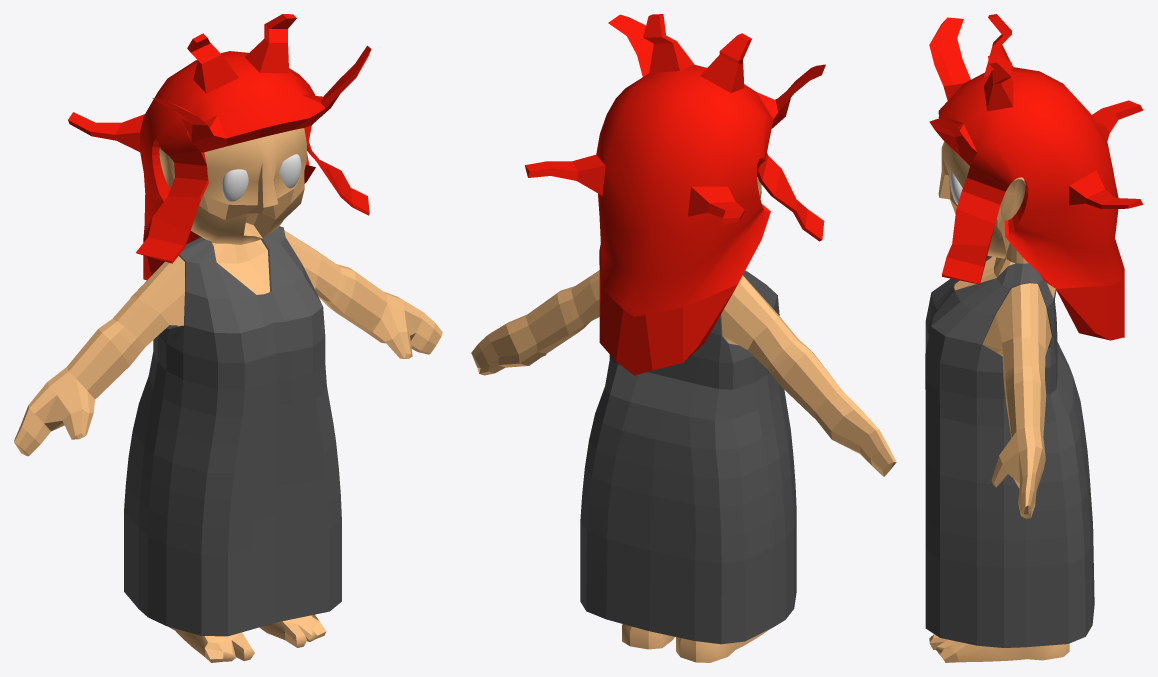
Rendered from normal.fbx.
3 views of the same model, side by side, from view 1: azimuth 30°, elevation 25°; view 2: azimuth 150°, elevation 25°; view 3: azimuth 270°, elevation 25° (orthographic).
Parts seen in each view (by area): view 1: Cylinder003; view 2: Cylinder003; view 3: Cylinder003.
Part boxes in pixels (box(x1,y1,x2,y2)): Cylinder003: box(14, 14, 442, 662); Cylinder003: box(471, 14, 896, 662); Cylinder003: box(925, 14, 1143, 662).
Bounding box in the file's own units: 106 × 144 × 47.37.
